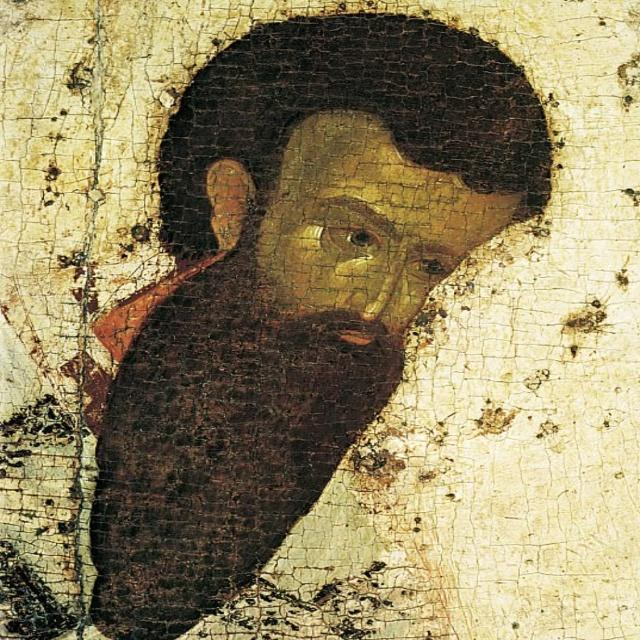apostle: (1, 6, 572, 640)
apostle_face: (181, 8, 549, 436)
